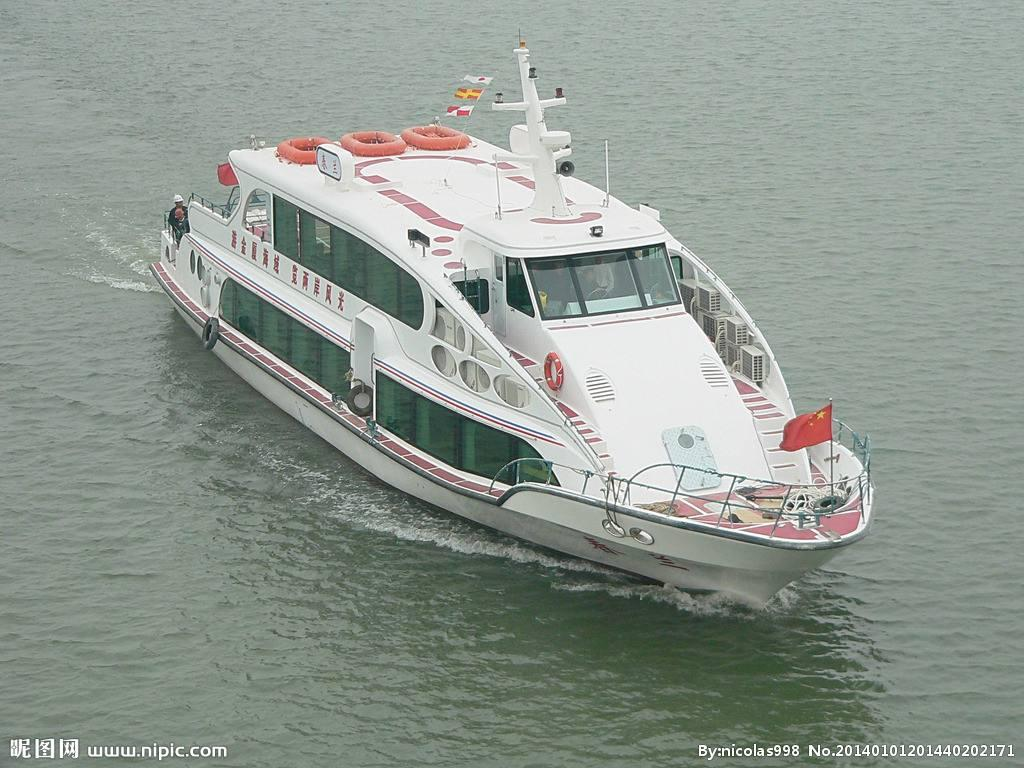yacht: (146, 42, 877, 607)
